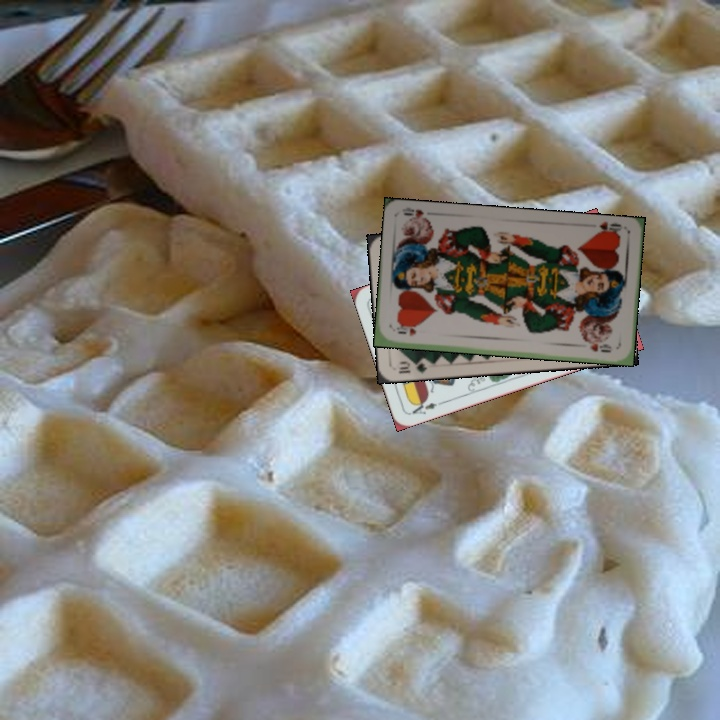EA: (406, 396, 446, 417)
G10: (394, 356, 429, 376)
HO: (591, 218, 624, 239), (392, 323, 419, 339)
